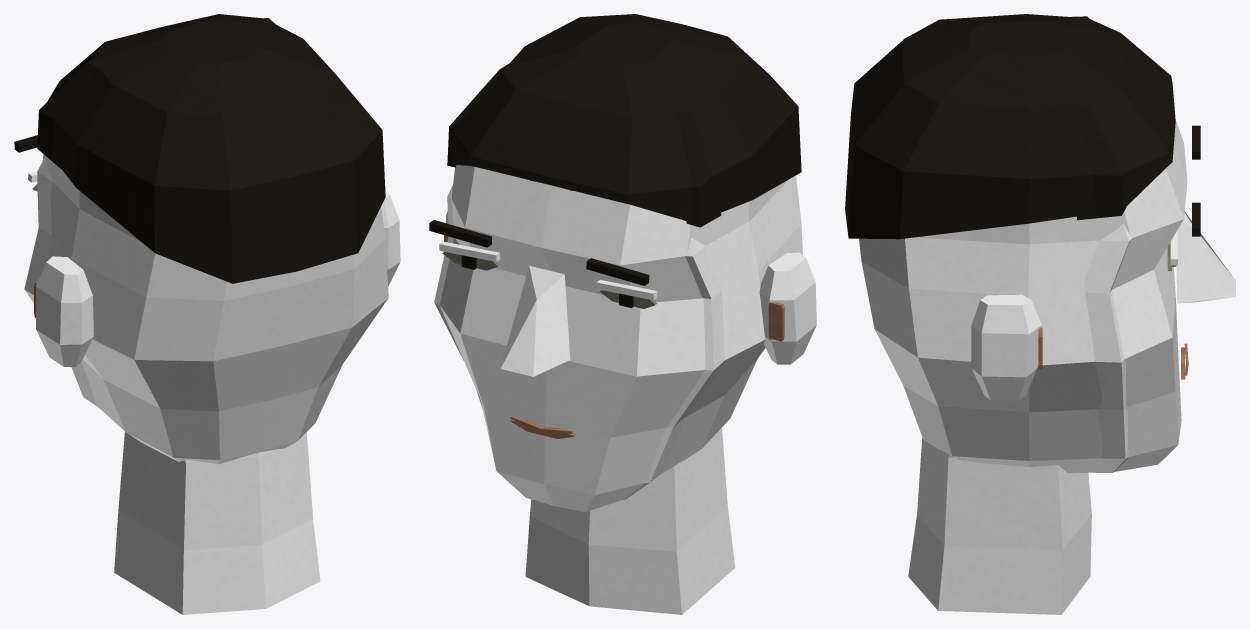
3 views of the same model, side by side, from view 1: azimuth 30°, elevation 25°; view 2: azimuth 150°, elevation 25°; view 3: azimuth 270°, elevation 25° (orthographic). The views are drawn at different scales.
Visible parts, largest first — view 1: face_01_head_LOD0_RAID_skin.001, face_01_head_LOD0_RAID_hair1.001, face_01_head_LOD1_RAID_hair1.001, face_01_head_LOD1_RAID_skin.001; view 2: face_01_head_LOD0_RAID_skin.001, face_01_head_LOD0_RAID_hair1.001, face_01_head_LOD1_RAID_hair1.001, face_01_head_LOD1_RAID_skin.001, face_01_head_LOD0_RAID_lip.001, face_01_head_LOD0_RAID_eye.001; view 3: face_01_head_LOD0_RAID_skin.001, face_01_head_LOD0_RAID_hair1.001, face_01_head_LOD1_RAID_skin.001, face_01_head_LOD1_RAID_hair1.001.
Part boxes in pixels (left/top/right/bottom): face_01_head_LOD0_RAID_skin.001: left=28, top=154, right=400, bottom=614; face_01_head_LOD0_RAID_hair1.001: left=14, top=14, right=385, bottom=283; face_01_head_LOD1_RAID_hair1.001: left=37, top=18, right=275, bottom=169; face_01_head_LOD1_RAID_skin.001: left=24, top=158, right=99, bottom=408; face_01_head_LOD0_RAID_skin.001: left=439, top=165, right=816, bottom=614; face_01_head_LOD0_RAID_hair1.001: left=429, top=14, right=801, bottom=285; face_01_head_LOD1_RAID_hair1.001: left=447, top=26, right=721, bottom=227; face_01_head_LOD1_RAID_skin.001: left=434, top=185, right=724, bottom=499; face_01_head_LOD0_RAID_lip.001: left=444, top=222, right=784, bottom=438; face_01_head_LOD0_RAID_eye.001: left=442, top=252, right=657, bottom=308; face_01_head_LOD0_RAID_skin.001: left=859, top=120, right=1235, bottom=614; face_01_head_LOD0_RAID_hair1.001: left=845, top=14, right=1200, bottom=239; face_01_head_LOD1_RAID_skin.001: left=1084, top=224, right=1131, bottom=472; face_01_head_LOD1_RAID_hair1.001: left=971, top=16, right=1126, bottom=220.
Bounding box in the file's own units: 0.2764 × 0.404 × 0.266.
5 materials, 5 textured.
